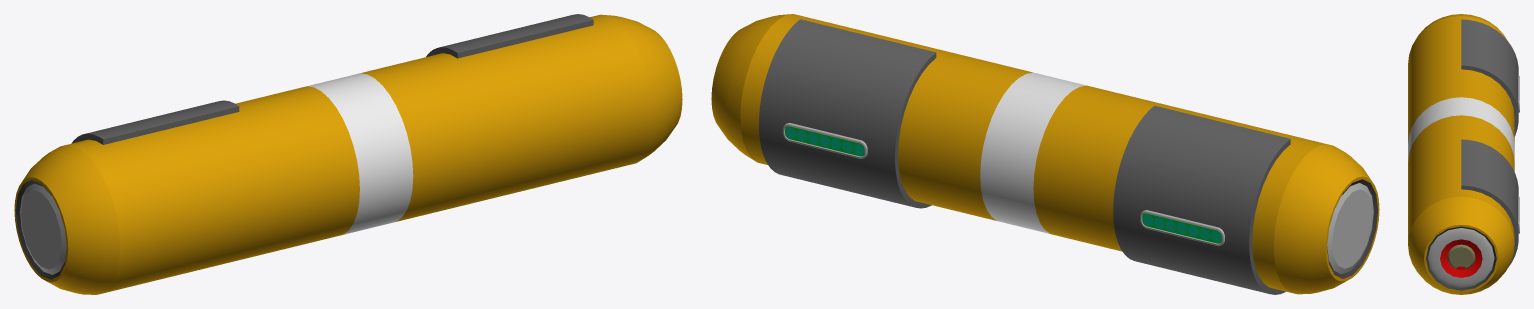
Rendered from env_building_warehouse02_tank_lod1.fbx.
The picture shows the model from 3 angles, left to right: view 1: azimuth 30°, elevation 25°; view 2: azimuth 150°, elevation 25°; view 3: azimuth 270°, elevation 25°; orthographic projection. The views are drawn at different scales.
Parts seen in each view (by area): view 1: pCylinder26; view 2: pCylinder26; view 3: pCylinder26.
Boxes of the visible parts, left/top/right/bottom form: pCylinder26: left=14, top=14, right=682, bottom=294; pCylinder26: left=711, top=14, right=1379, bottom=294; pCylinder26: left=1408, top=14, right=1519, bottom=294.
Size of the model in its own units: 567 by 133 by 129.
